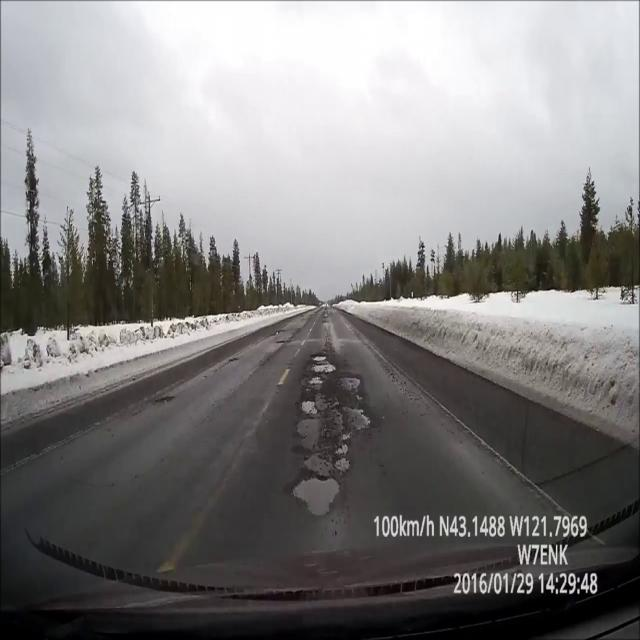Pothole: (293, 476, 342, 517), (307, 456, 353, 482), (296, 417, 328, 448), (340, 405, 372, 430), (335, 433, 356, 466), (337, 375, 363, 390), (309, 362, 337, 374), (303, 376, 326, 386), (300, 399, 315, 414), (310, 353, 328, 362), (155, 396, 174, 403), (274, 340, 289, 346), (227, 357, 239, 362)
